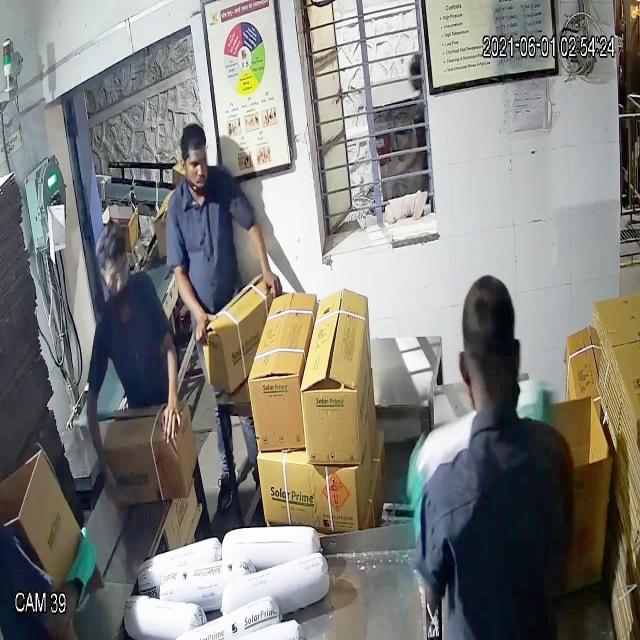glasses: (94, 246, 130, 292)
